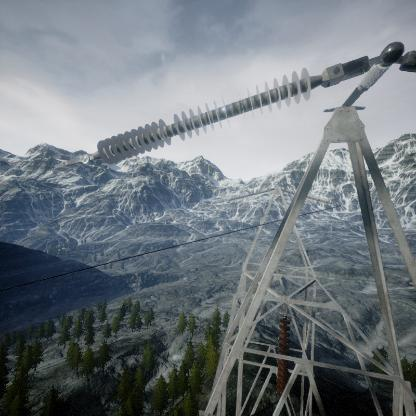insulator: (92, 67, 322, 162), (275, 316, 293, 398)
